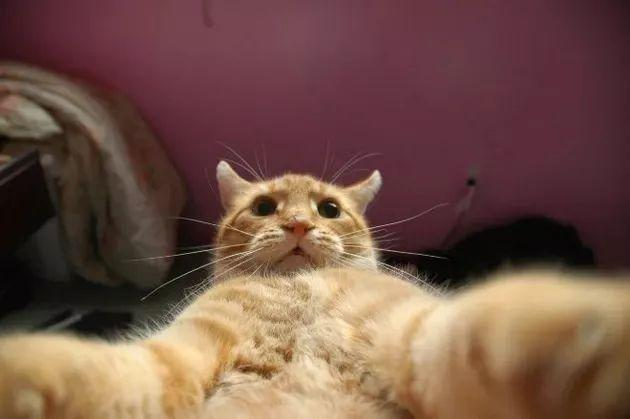non-dog: (0, 159, 630, 419)
